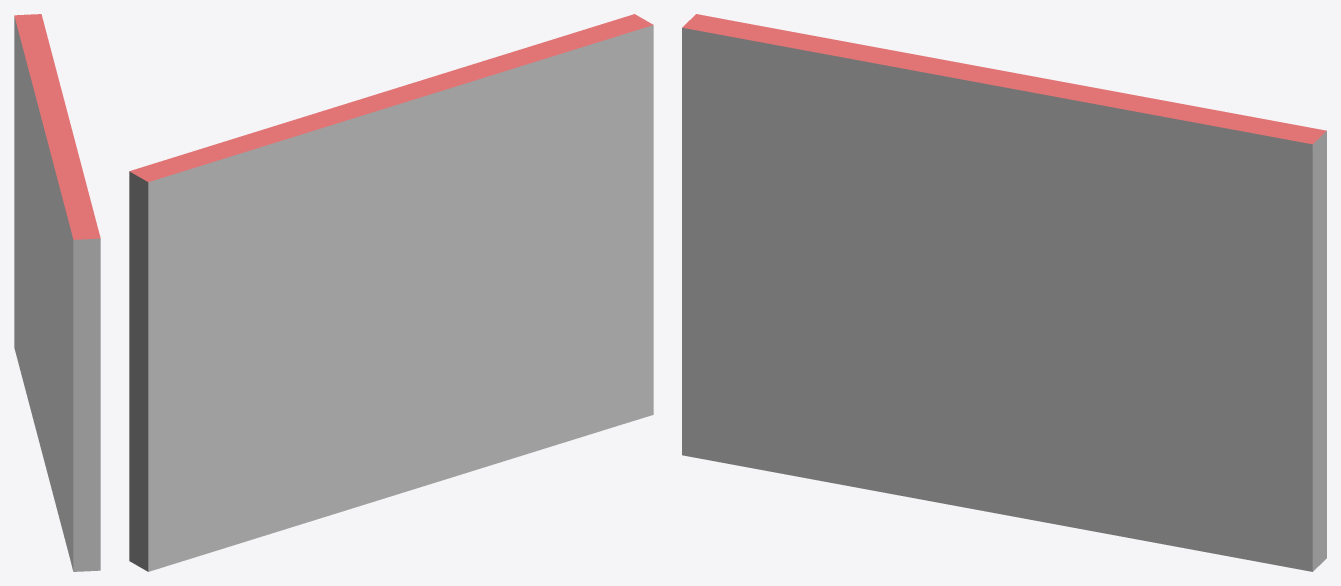
File: DEBY_LOD2_42364663.gltf
3 renders of one model, left to right at view 1: azimuth 30°, elevation 25°; view 2: azimuth 150°, elevation 25°; view 3: azimuth 270°, elevation 25°, orthographic. The views are drawn at different scales.
Parts seen in each view (by area): view 1: Z_UP; view 2: Z_UP; view 3: Z_UP.
Boxes of the visible parts, x1,y1,x2,y2 form: Z_UP: (14,14,100,571); Z_UP: (129,14,653,571); Z_UP: (682,14,1326,571).
Bounding box in the file's own units: 12.85 × 19.65 × 26.86.
